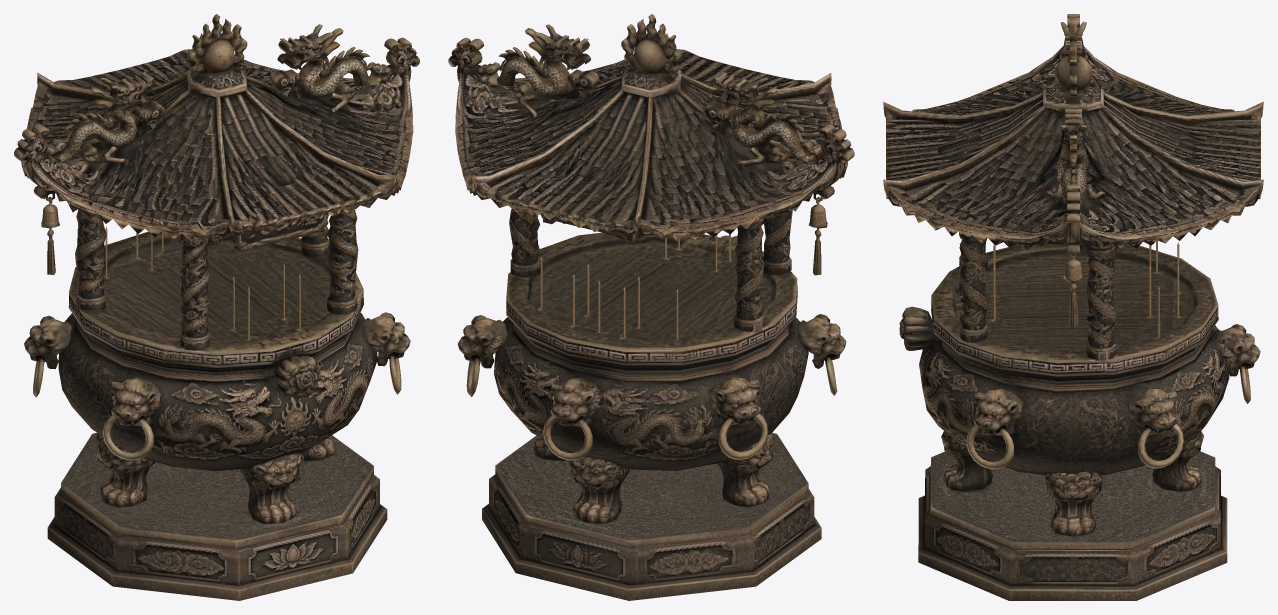
The model's file is tiangong.glb.
The picture shows the model from 3 angles, left to right: view 1: azimuth 30°, elevation 25°; view 2: azimuth 150°, elevation 25°; view 3: azimuth 270°, elevation 25°; orthographic projection. The views are drawn at different scales.
Parts seen in each view (by area): view 1: tripo_node_2442dc6a-4c15-4501-8ce0-dd955580a938; view 2: tripo_node_2442dc6a-4c15-4501-8ce0-dd955580a938; view 3: tripo_node_2442dc6a-4c15-4501-8ce0-dd955580a938.
Boxes of the visible parts, <box> form: tripo_node_2442dc6a-4c15-4501-8ce0-dd955580a938: <box>14,14,419,600</box>; tripo_node_2442dc6a-4c15-4501-8ce0-dd955580a938: <box>448,14,854,600</box>; tripo_node_2442dc6a-4c15-4501-8ce0-dd955580a938: <box>883,14,1263,600</box>.
Bounding box in the file's own units: 0.814 × 0.9995 × 0.688.
1 material, 1 textured.
